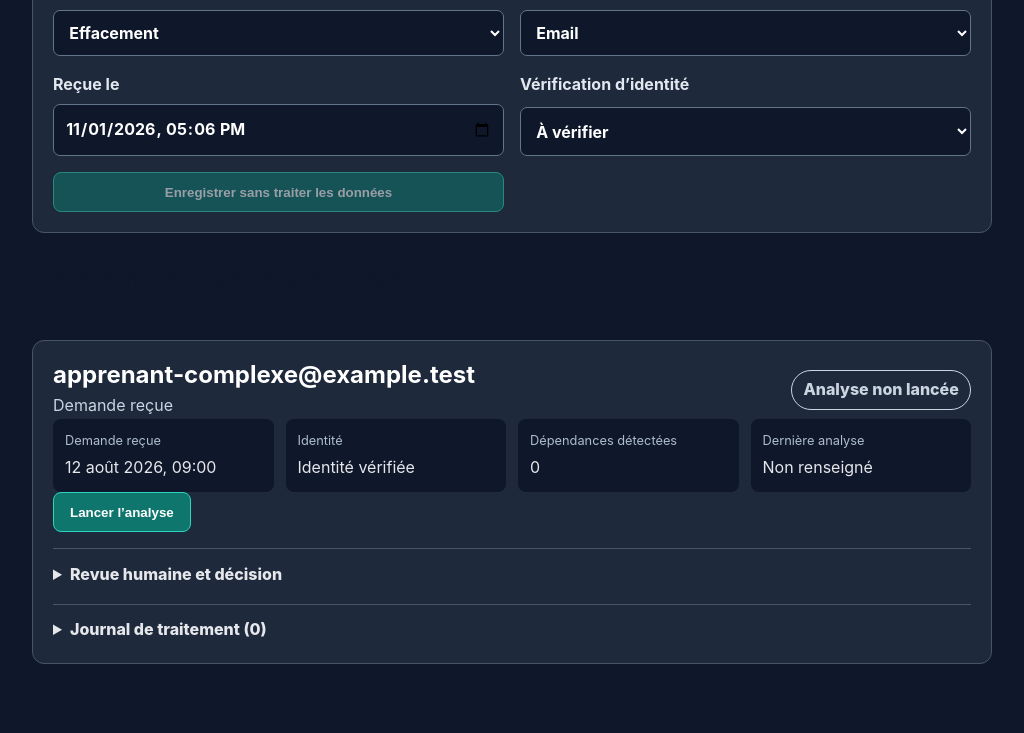
Test: workflow RGPD non destructif › classe un dossier complexe en revue juridique et signale le contrôle externe
(page scrolled)
Step 1. Click the button "Lancer l’analyse" → (122, 512), box [53,492,191,532]
(page scrolled)
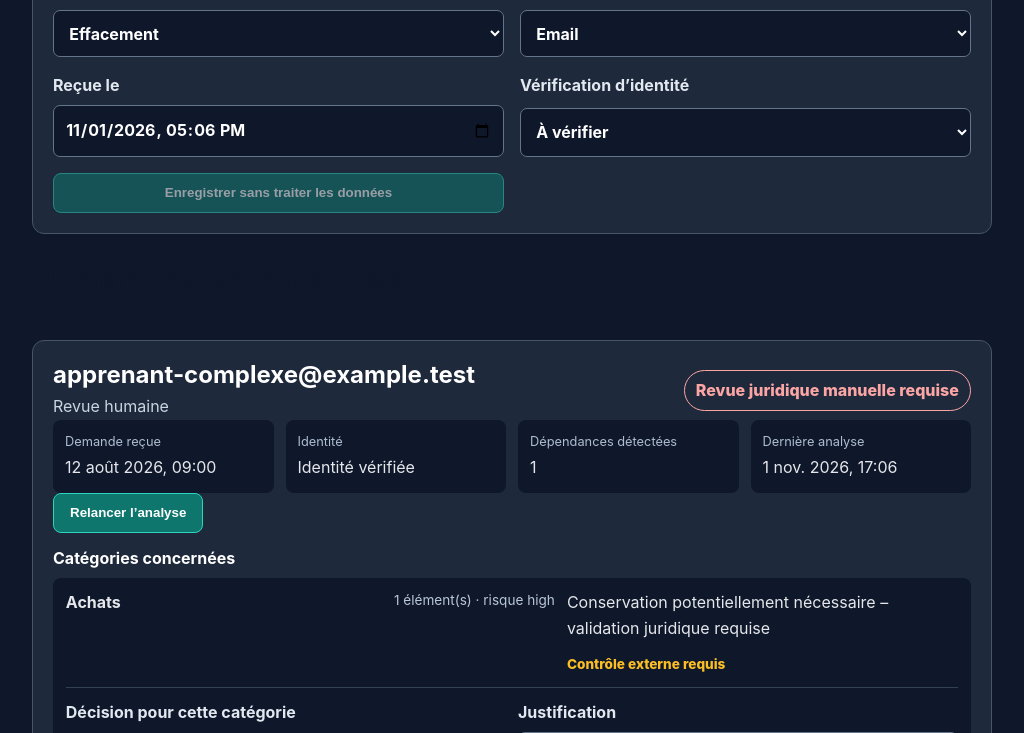
Result: the text "Revue juridique manuelle requise" is shown at [684,370,971,411]
Result: the text "Achats" is shown at [66,592,121,612]
Result: the text "Contrôle externe requis" is shown at [567,654,725,675]
